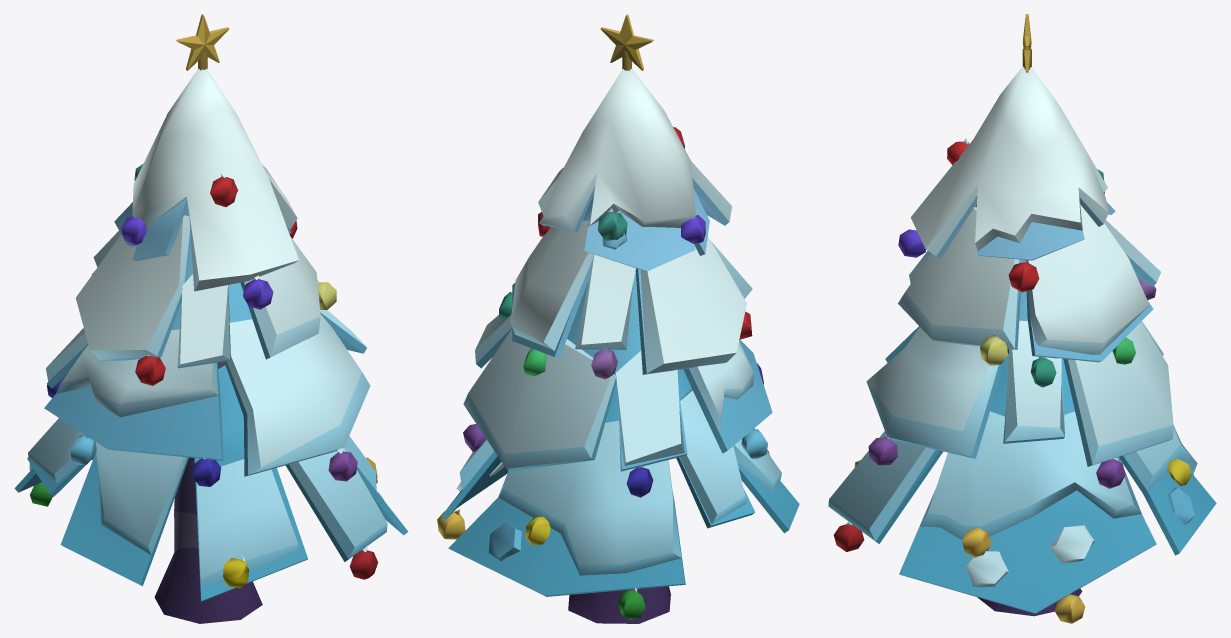
Rendered from Tree_01_Lights.fbx.
The picture shows the model from 3 angles, left to right: view 1: azimuth 30°, elevation 25°; view 2: azimuth 150°, elevation 25°; view 3: azimuth 270°, elevation 25°; orthographic projection. The views are drawn at different scales.
Visible parts, largest first — view 1: Cylinder.012; view 2: Cylinder.012; view 3: Cylinder.012.
Boxes of the visible parts, box(x1,y1,x2,y2) form: Cylinder.012: box(14, 14, 408, 623); Cylinder.012: box(437, 14, 799, 623); Cylinder.012: box(828, 14, 1216, 623).
Size of the model in its own units: 333 by 580 by 354.
